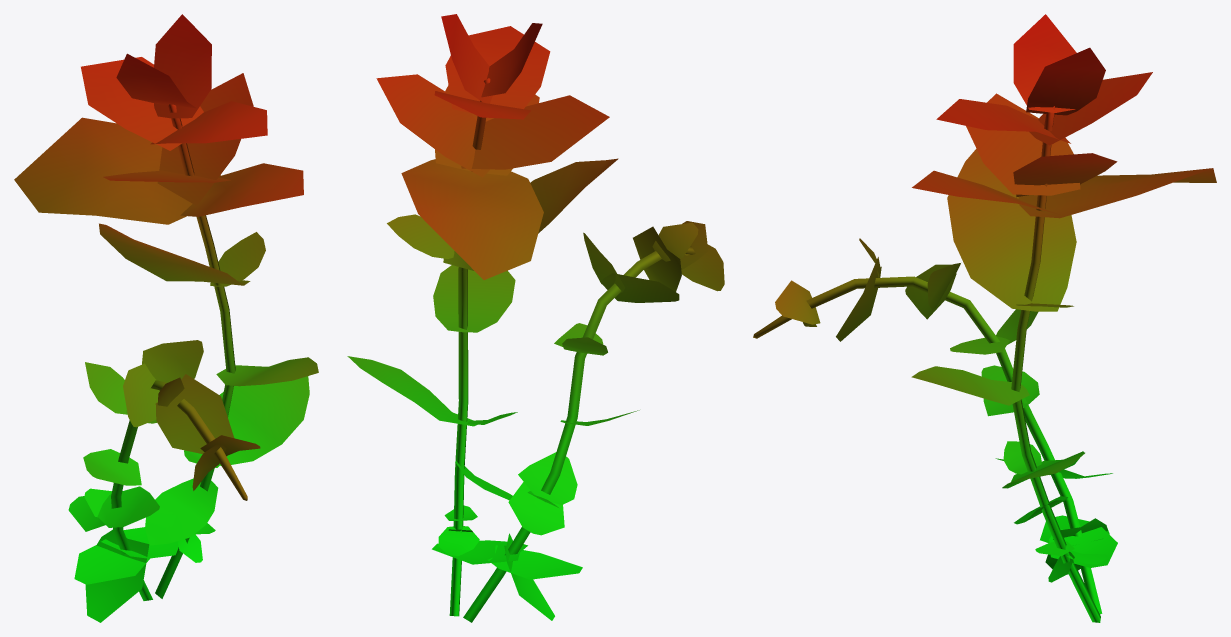
The model's file is Rubber Bush_LOD3_Var9_xffhfekia.fbx.
The picture shows the model from 3 angles, left to right: view 1: azimuth 30°, elevation 25°; view 2: azimuth 150°, elevation 25°; view 3: azimuth 270°, elevation 25°; orthographic projection. The views are drawn at different scales.
Parts seen in each view (by area): view 1: _jul9_Var9_LOD3; view 2: _jul9_Var9_LOD3; view 3: _jul9_Var9_LOD3.
Part boxes in pixels (<box>): _jul9_Var9_LOD3: <box>14,14,318,622</box>; _jul9_Var9_LOD3: <box>347,14,724,622</box>; _jul9_Var9_LOD3: <box>753,14,1216,622</box>.
Bounding box in the file's own units: 19.93 × 43.92 × 31.61.
